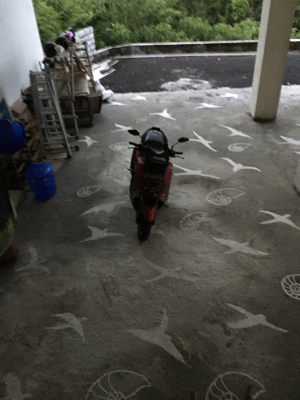moto: (128, 123, 179, 244)
